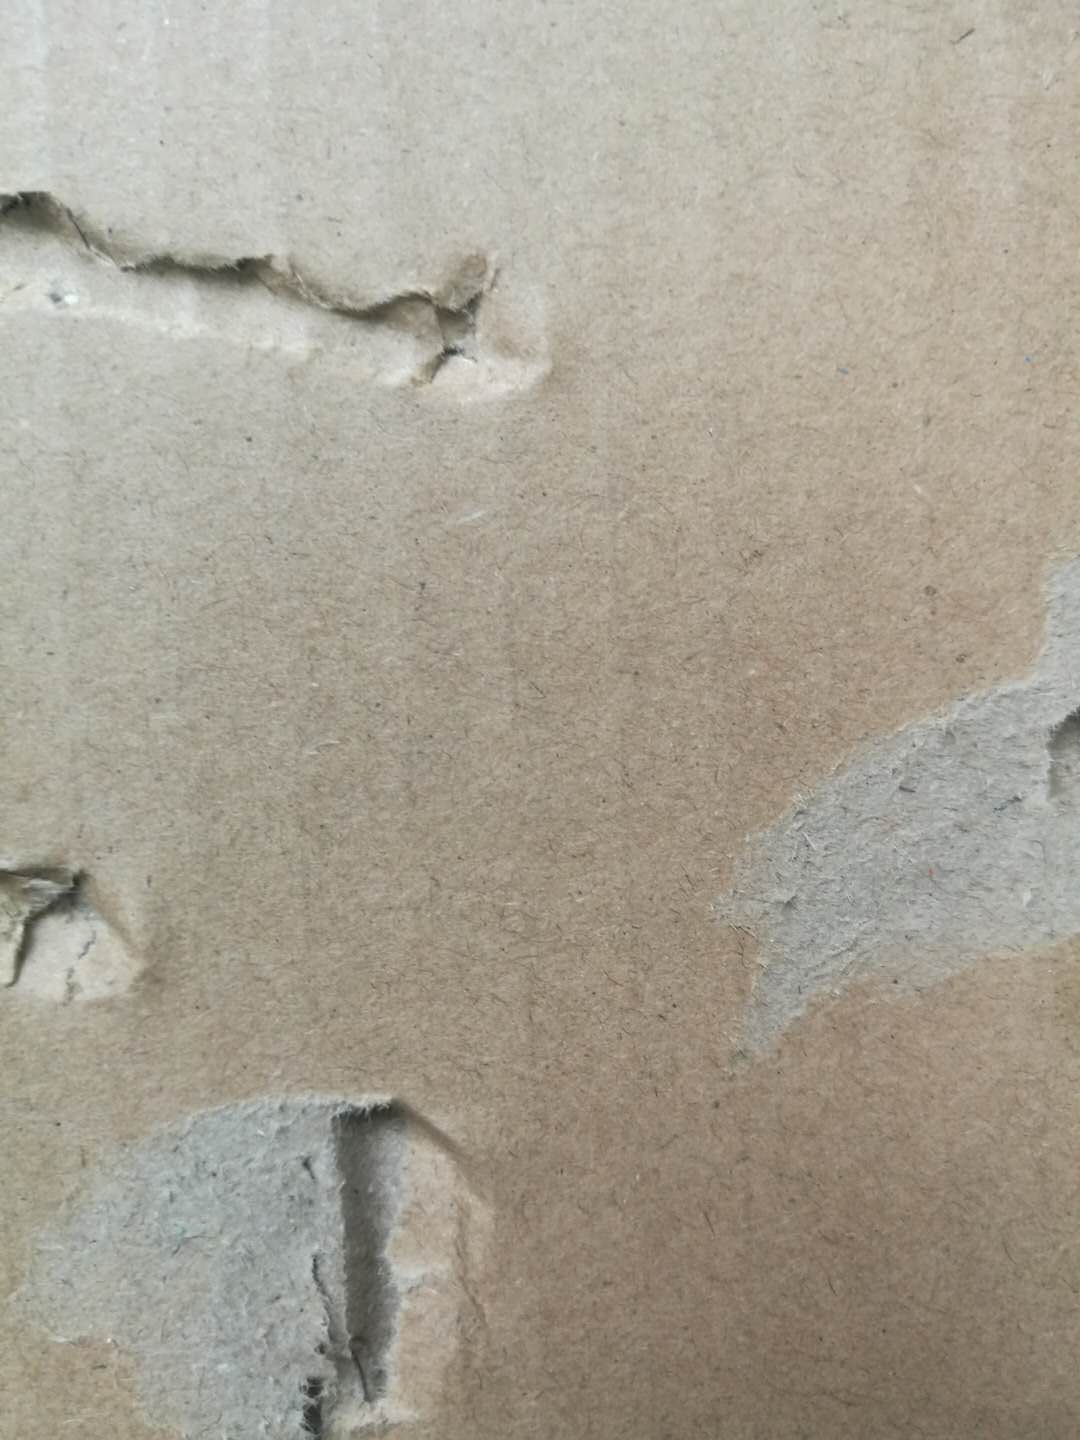defect: (699, 533, 1080, 1107), (2, 1071, 534, 1440), (2, 132, 569, 448), (1, 807, 169, 1027)
